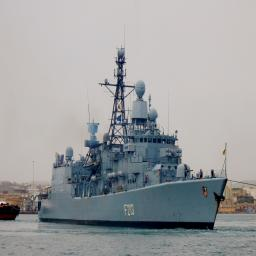Fragata: (36, 36, 231, 236)
